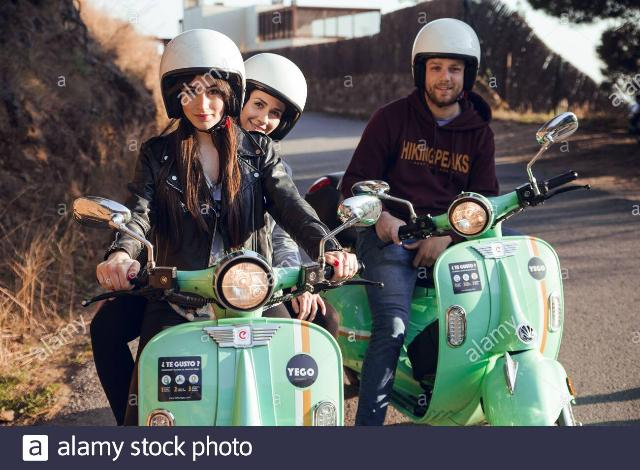helm: (158, 29, 246, 140), (409, 18, 483, 108), (238, 53, 309, 143)
motor: (316, 114, 613, 427), (67, 190, 386, 427)
